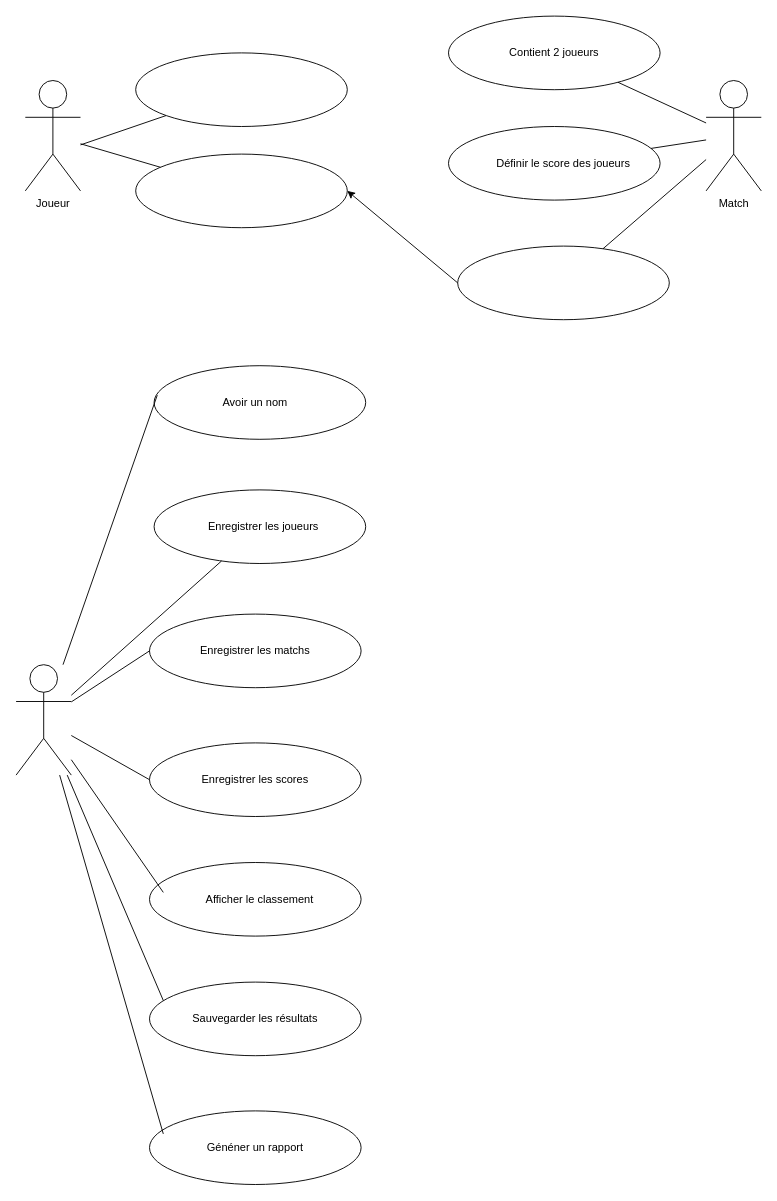
Some shapes in this 777 by 1201 pixel diagram are drawn without their labels. Here are the shapes that lost their labels. From the top down, the box of each, then its label:
(135, 52, 347, 126): Avoir un pseudo
(135, 153, 347, 228): Enregistrer le nombre de victoires
(457, 245, 669, 320): Définir le gagnant
(15, 664, 71, 775): Tournoi
